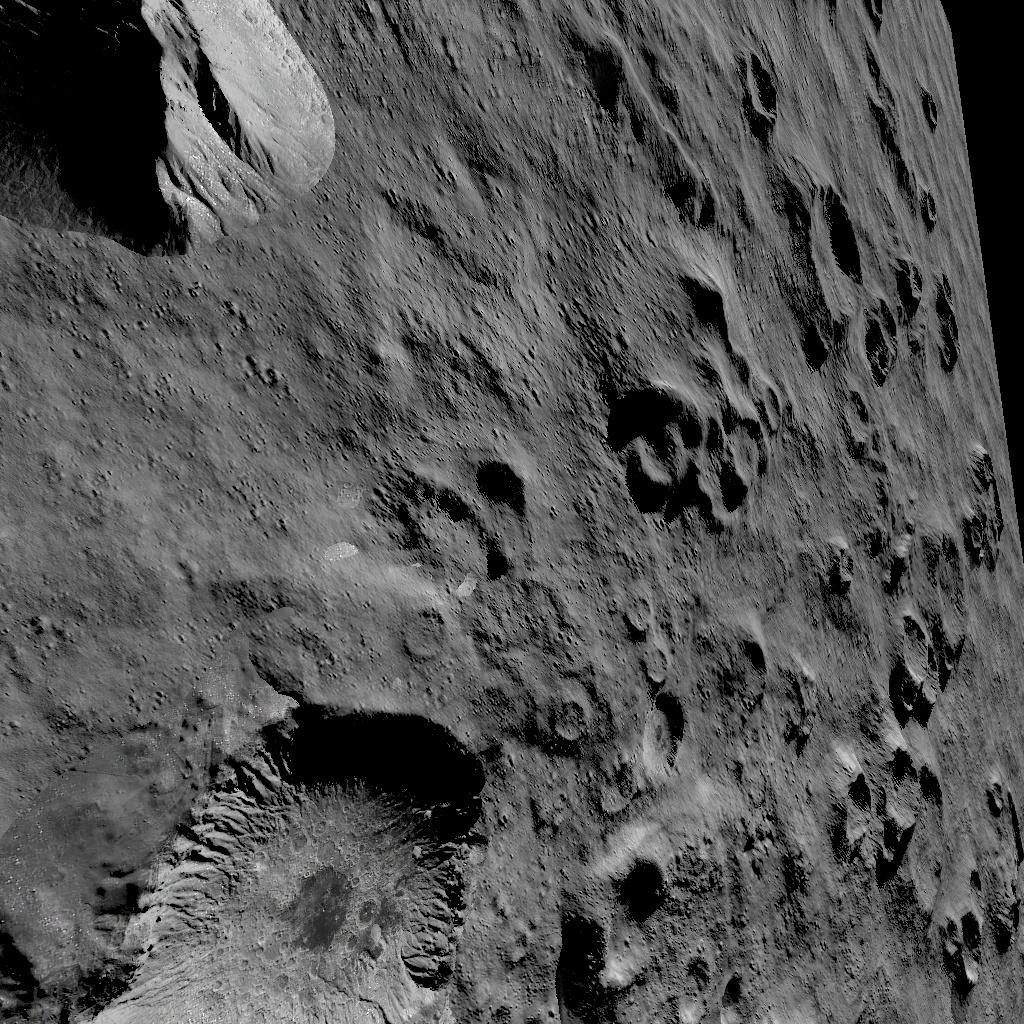Boulders: (0, 0, 327, 251)
Crater: (23, 696, 467, 1018), (780, 173, 950, 385), (563, 384, 757, 532), (374, 454, 527, 585), (529, 844, 637, 1004), (598, 590, 678, 794), (804, 736, 924, 862), (903, 876, 1024, 998), (868, 610, 956, 720), (920, 448, 986, 574), (645, 940, 727, 1024), (724, 48, 780, 138), (386, 608, 444, 668), (532, 692, 581, 752), (894, 87, 936, 150), (810, 539, 852, 598), (820, 398, 862, 456), (841, 0, 882, 50), (964, 772, 1000, 818)
Plan surface: (3, 258, 343, 686), (351, 0, 556, 438)
